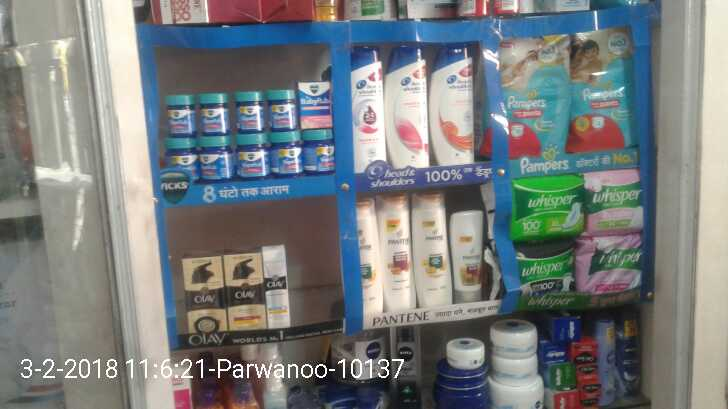vicks: (165, 74, 333, 183)
